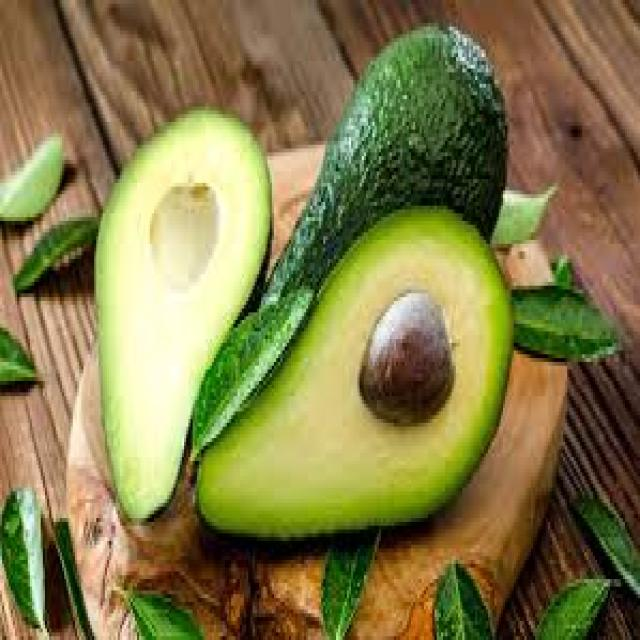Bo: (208, 4, 525, 437), (187, 198, 529, 576), (90, 89, 282, 541)
